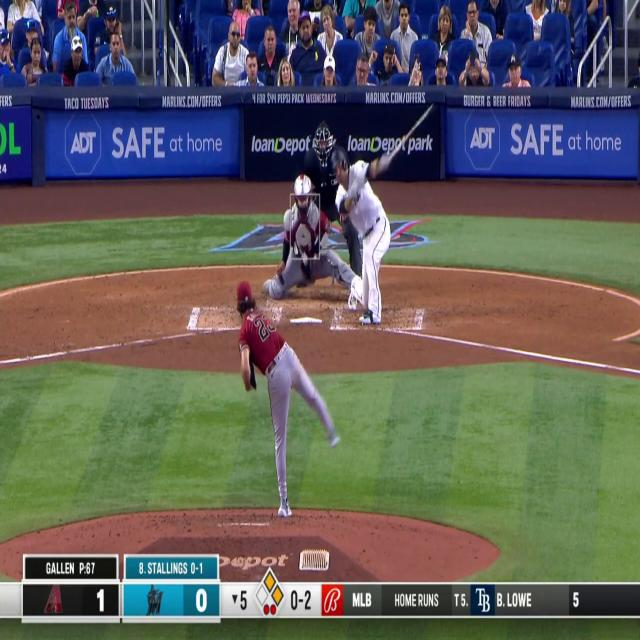baseball: (300, 250, 309, 267)
